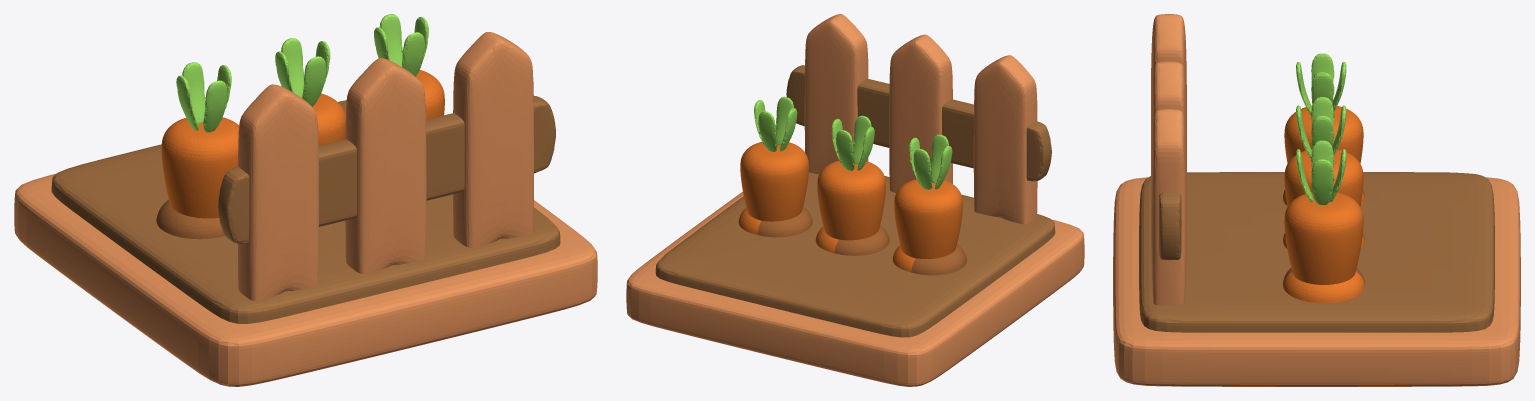
File: crop-growth.glb
The picture shows the model from 3 angles, left to right: view 1: azimuth 30°, elevation 25°; view 2: azimuth 150°, elevation 25°; view 3: azimuth 270°, elevation 25°; orthographic projection. The views are drawn at different scales.
Parts seen in each view (by area): view 1: growth_0_mat_4, growth_0_mat_3, growth_3_mat_4, growth_1_mat_4, growth_2_mat_4, growth_3_mat_0, growth_3_mat_3, growth_3_mat_2, growth_1_mat_3, growth_2_mat_3, growth_1_mat_1; view 2: growth_0_mat_4, growth_0_mat_3, growth_3_mat_0, growth_3_mat_4, growth_3_mat_3, growth_2_mat_3, growth_1_mat_4, growth_1_mat_3, growth_2_mat_4, growth_3_mat_2, growth_1_mat_1, growth_2_mat_0; view 3: growth_3_mat_4, growth_3_mat_3, growth_0_mat_3, growth_3_mat_0, growth_2_mat_3, growth_3_mat_2, growth_0_mat_4, growth_1_mat_3, growth_2_mat_4, growth_1_mat_4, growth_2_mat_0.
Boxes of the visible parts, x1,y1,x2,y2 form: growth_0_mat_4: (14, 32, 548, 386); growth_0_mat_3: (51, 105, 548, 323); growth_3_mat_4: (258, 32, 597, 371); growth_1_mat_4: (50, 32, 578, 379); growth_2_mat_4: (263, 45, 578, 375); growth_3_mat_0: (161, 70, 444, 218); growth_3_mat_3: (119, 96, 560, 304); growth_3_mat_2: (176, 14, 428, 132); growth_1_mat_3: (99, 102, 544, 319); growth_2_mat_3: (108, 100, 552, 315); growth_1_mat_1: (156, 199, 224, 239); growth_0_mat_4: (656, 14, 1084, 386); growth_0_mat_3: (680, 74, 1055, 337); growth_3_mat_0: (740, 142, 962, 258); growth_3_mat_4: (626, 14, 1015, 376); growth_3_mat_3: (655, 65, 1030, 325); growth_2_mat_3: (662, 72, 1031, 325); growth_1_mat_4: (666, 30, 1058, 378); growth_1_mat_3: (673, 72, 1031, 326); growth_2_mat_4: (651, 28, 1017, 376); growth_3_mat_2: (754, 96, 952, 189); growth_1_mat_1: (759, 206, 966, 275); growth_2_mat_0: (738, 208, 915, 272); growth_3_mat_4: (1113, 15, 1520, 386); growth_3_mat_3: (1139, 192, 1494, 332); growth_0_mat_3: (1139, 172, 1494, 305); growth_3_mat_0: (1284, 105, 1363, 284); growth_2_mat_3: (1139, 192, 1494, 312); growth_3_mat_2: (1296, 53, 1346, 204); growth_0_mat_4: (1113, 14, 1520, 324); growth_1_mat_3: (1139, 179, 1493, 301); growth_2_mat_4: (1113, 188, 1520, 336); growth_1_mat_4: (1113, 187, 1520, 330); growth_2_mat_0: (1283, 192, 1364, 303).
Bounding box in the file's own units: 1.84 × 1.22 × 1.84.
